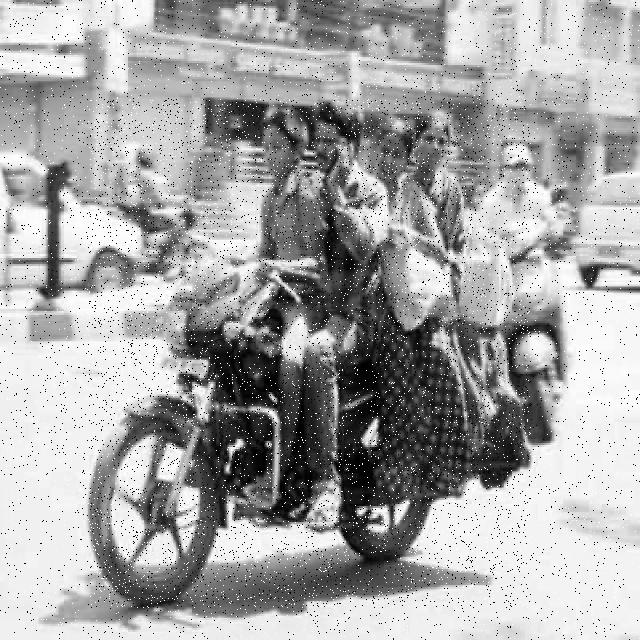Motorbike: (87, 99, 531, 608)
